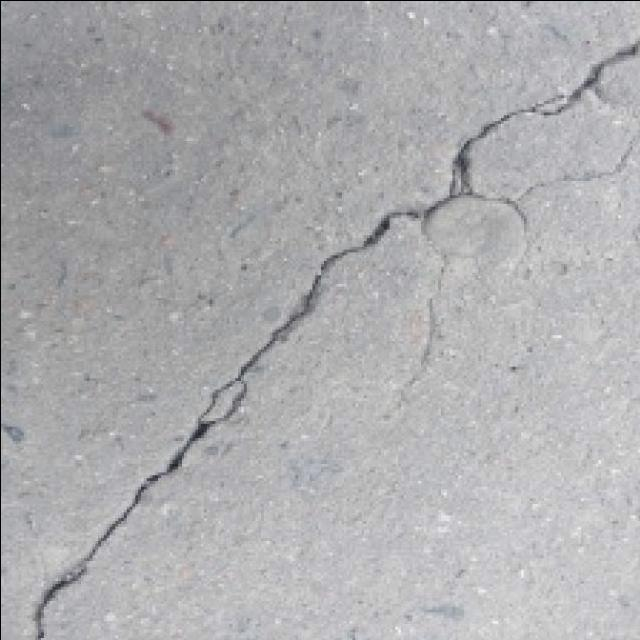SurfaceCrack: (12, 32, 640, 640)
